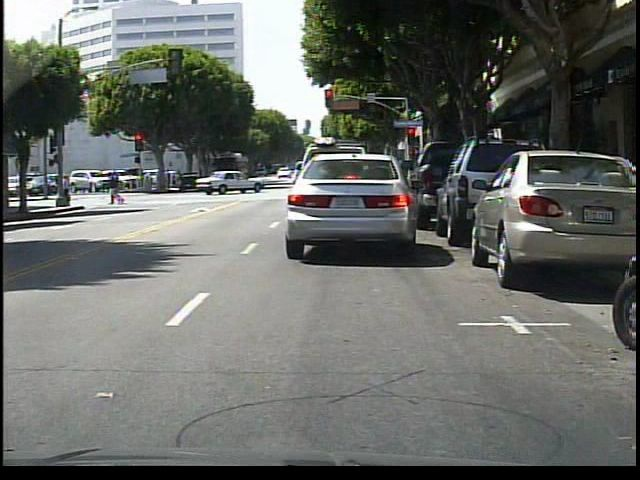person: (108, 173, 127, 207), (66, 174, 73, 208)
